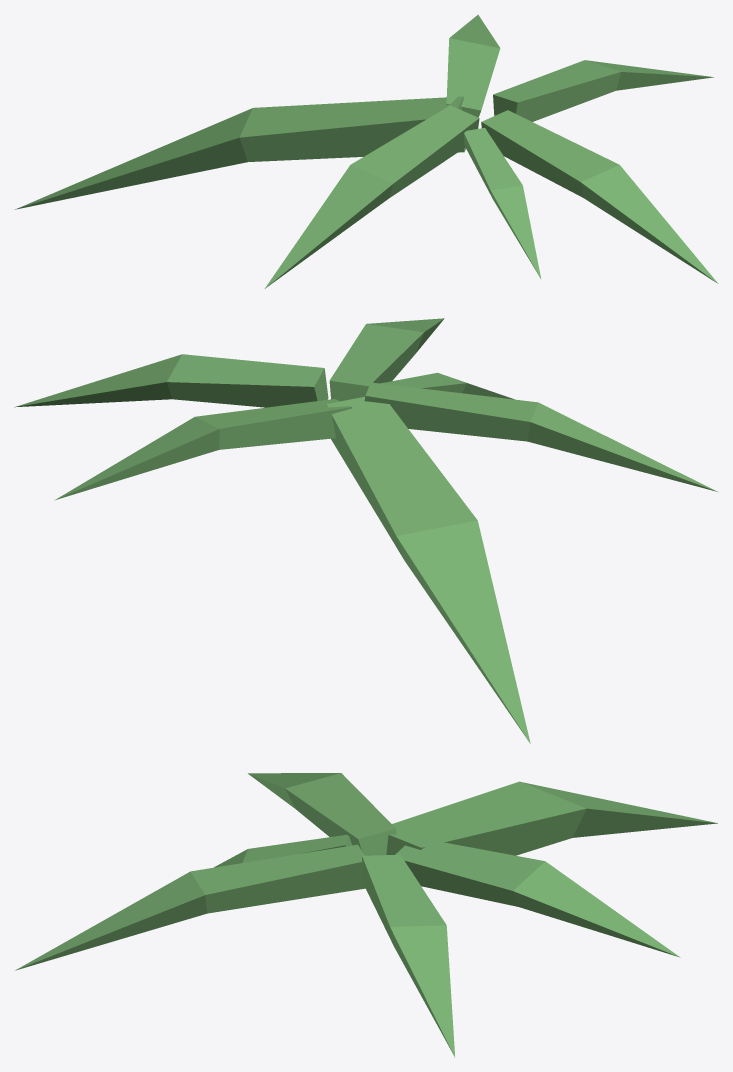
The model's file is bamboo-leaf5.FBX.
The picture shows the model from 3 angles, top to bottom: view 1: azimuth 30°, elevation 25°; view 2: azimuth 150°, elevation 25°; view 3: azimuth 270°, elevation 25°; orthographic projection. The views are drawn at different scales.
Visible parts, largest first — view 1: bamboo-leaf5; view 2: bamboo-leaf5; view 3: bamboo-leaf5.
Boxes of the visible parts, box(x1,y1,x2,y2) form: bamboo-leaf5: box(15, 14, 718, 288); bamboo-leaf5: box(14, 318, 717, 743); bamboo-leaf5: box(15, 773, 717, 1057).
Size of the model in its own units: 50.19 by 11.59 by 46.72.
